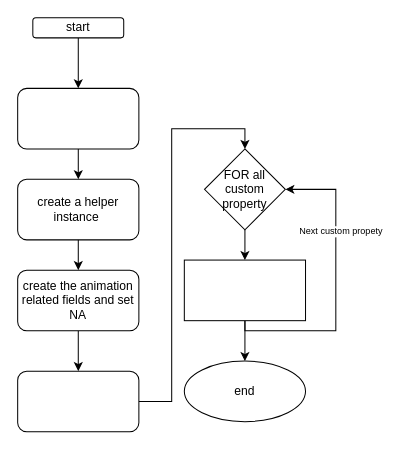
The diagram is 400 pixels wide and 449 high, and some of its shapes have lost their labels. Each missing label, with the centre of its shape:
assign property: the point at 78,401
assign the props rvo id,agent type: the point at 78,118
assign to the class: the point at 244,290
